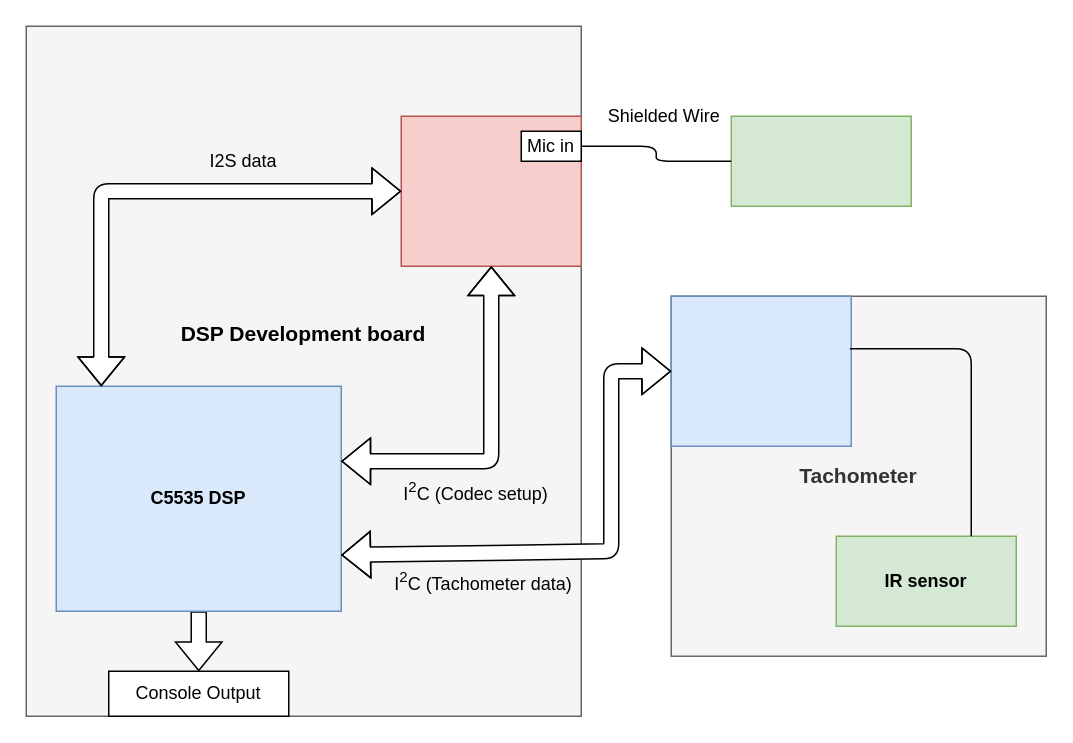
Some shapes in this 1073 by 743 pixel diagram are drawn without their labels. The box of each missing label's shape, as (x1, y1, x2, y2) in pixels:
ACH-01 Piezoelectric Accelerometer: (730, 115, 911, 206)
AIC3204 Codec: (400, 115, 581, 266)
Arduino: (670, 295, 851, 446)
